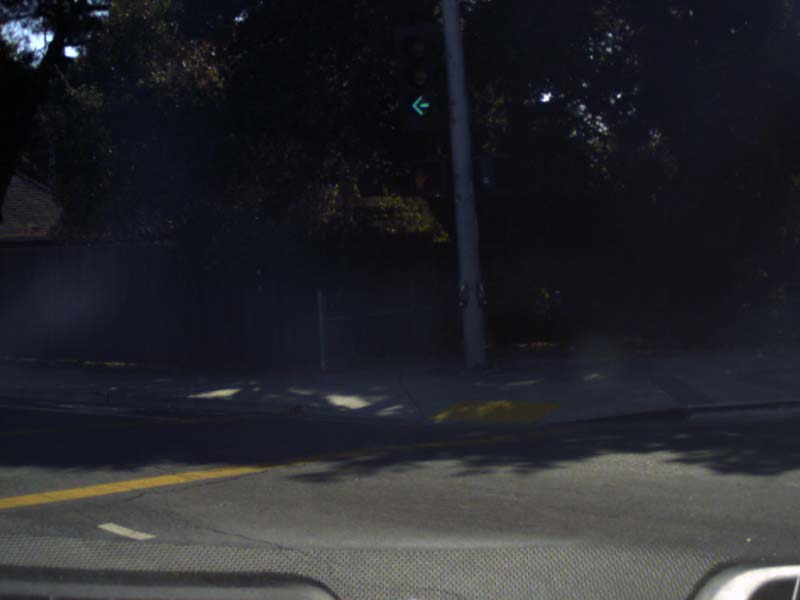Green: (392, 27, 445, 129)
